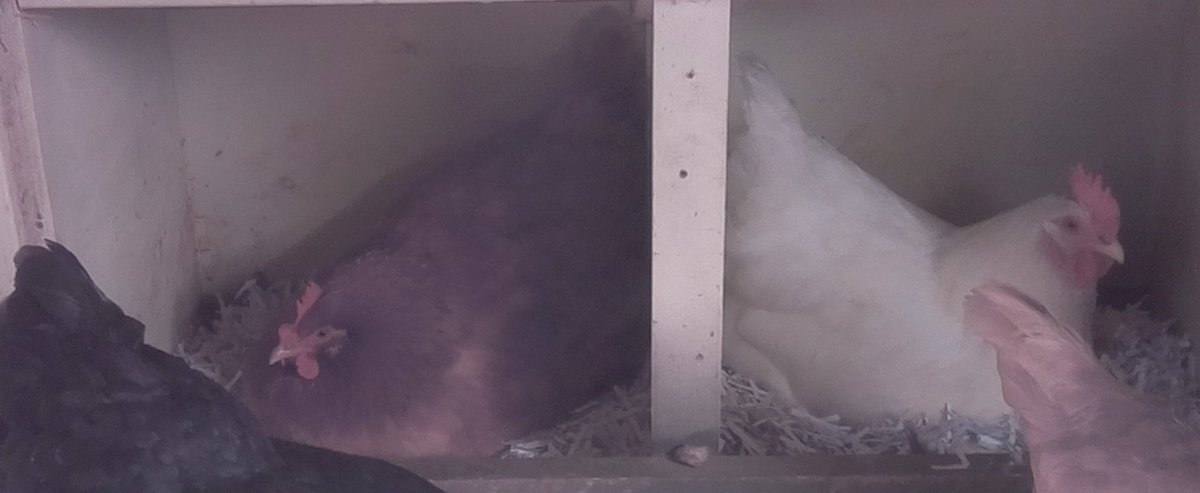hen: (240, 24, 645, 452), (730, 57, 1123, 433), (1, 234, 449, 489), (956, 269, 1200, 491)
